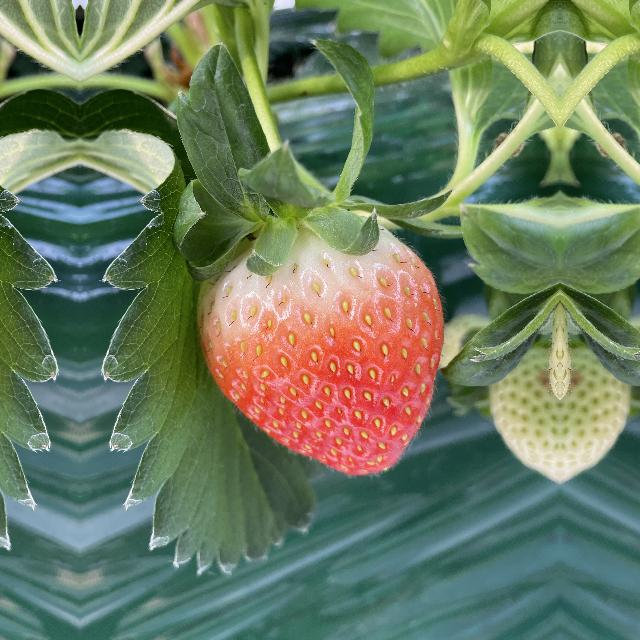Health_100: (194, 216, 458, 482)
